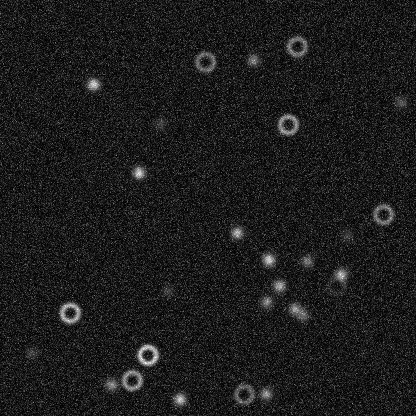Ring: (135, 342, 159, 366), (284, 34, 308, 58), (231, 382, 255, 406), (57, 300, 81, 324), (324, 273, 348, 297), (371, 202, 395, 226), (276, 112, 300, 136), (119, 368, 143, 392), (193, 49, 217, 73)
Spot: (258, 293, 274, 309), (171, 391, 187, 407), (260, 251, 276, 267), (103, 376, 119, 392), (85, 76, 101, 92), (333, 266, 349, 282), (294, 307, 310, 323), (159, 281, 175, 297), (24, 344, 40, 360), (245, 52, 261, 68), (271, 277, 287, 293), (130, 164, 146, 180), (286, 300, 302, 316), (339, 227, 355, 243), (228, 224, 244, 240), (152, 115, 168, 131), (257, 385, 273, 401), (299, 253, 315, 269), (392, 94, 408, 110)
